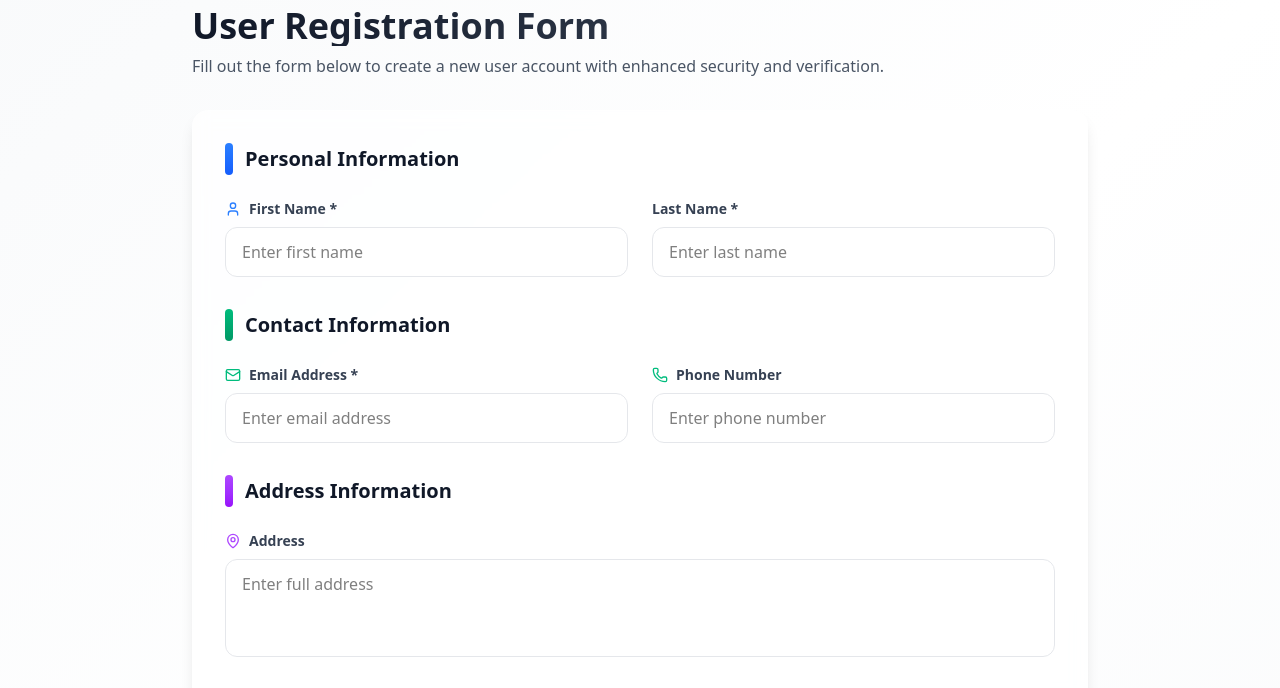
Test: FormView › clears form when cancel is clicked
Type "John" into the field labelled "First Name *". click: (426, 252)
box: [225, 227, 628, 277]
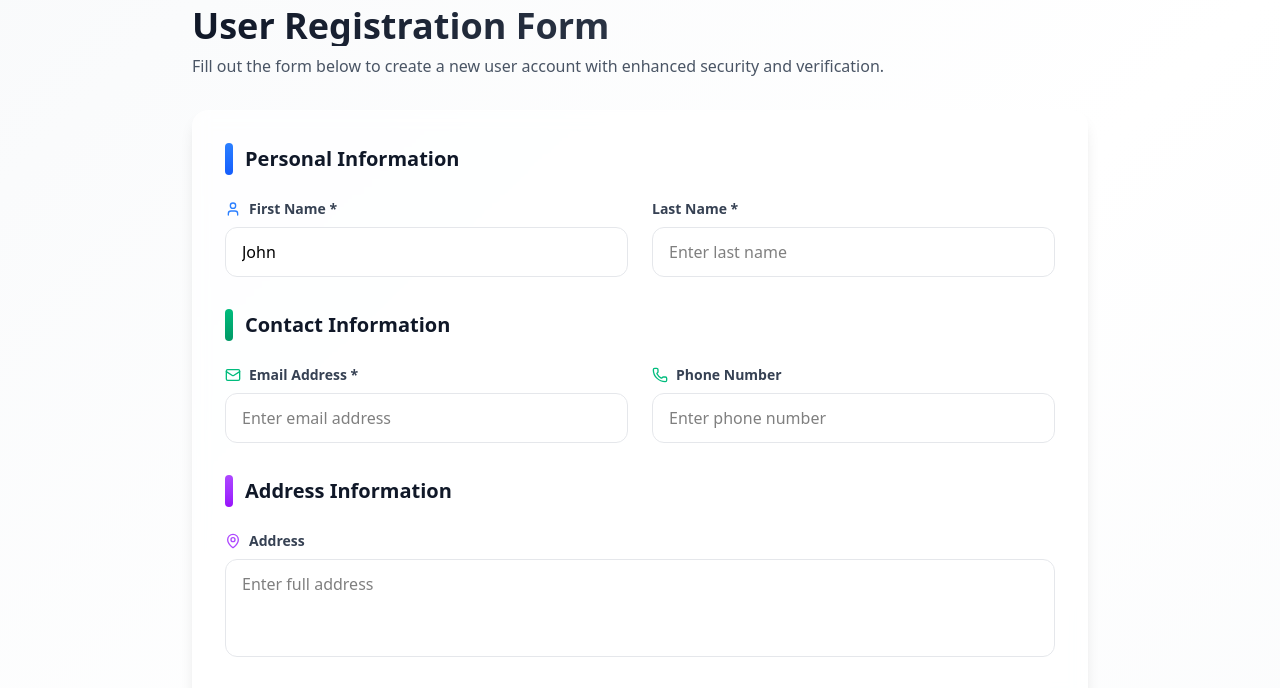
Type "john@example.com" into the field labelled "Email Address *". click: (426, 418)
box: [225, 393, 628, 443]
(page scrolled)
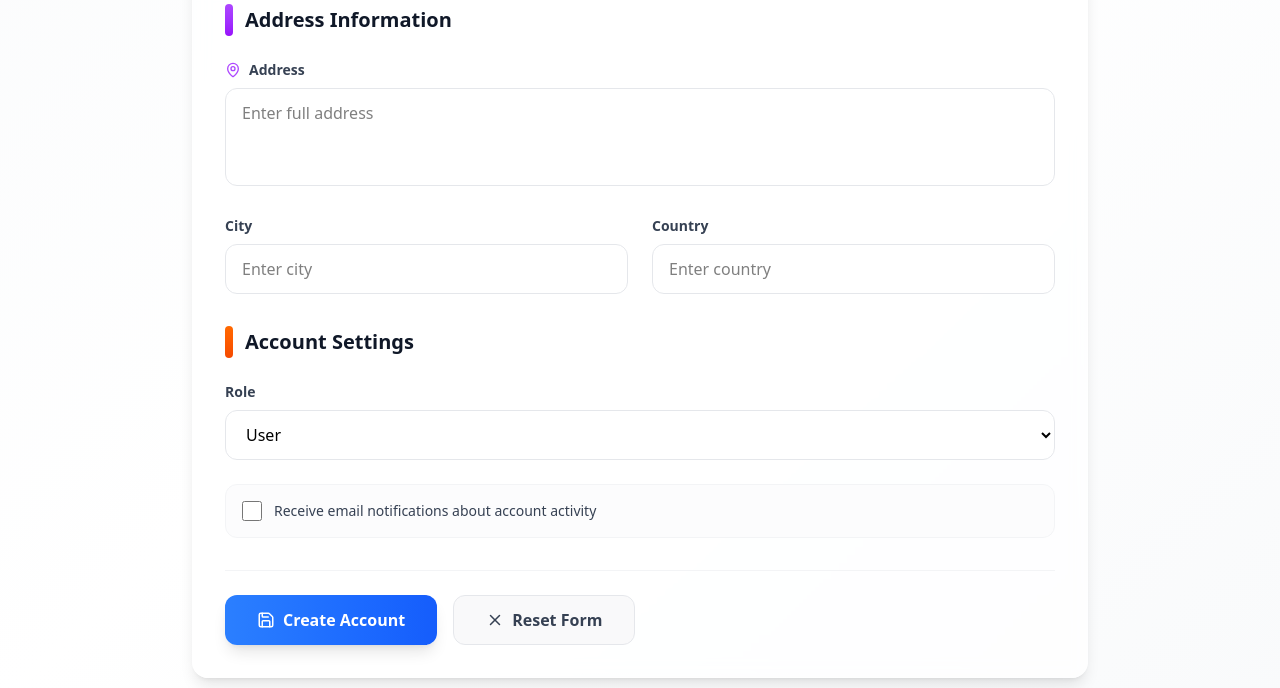
Click the button "Reset Form". click: (544, 620)
box: [453, 595, 635, 645]
(page scrolled)
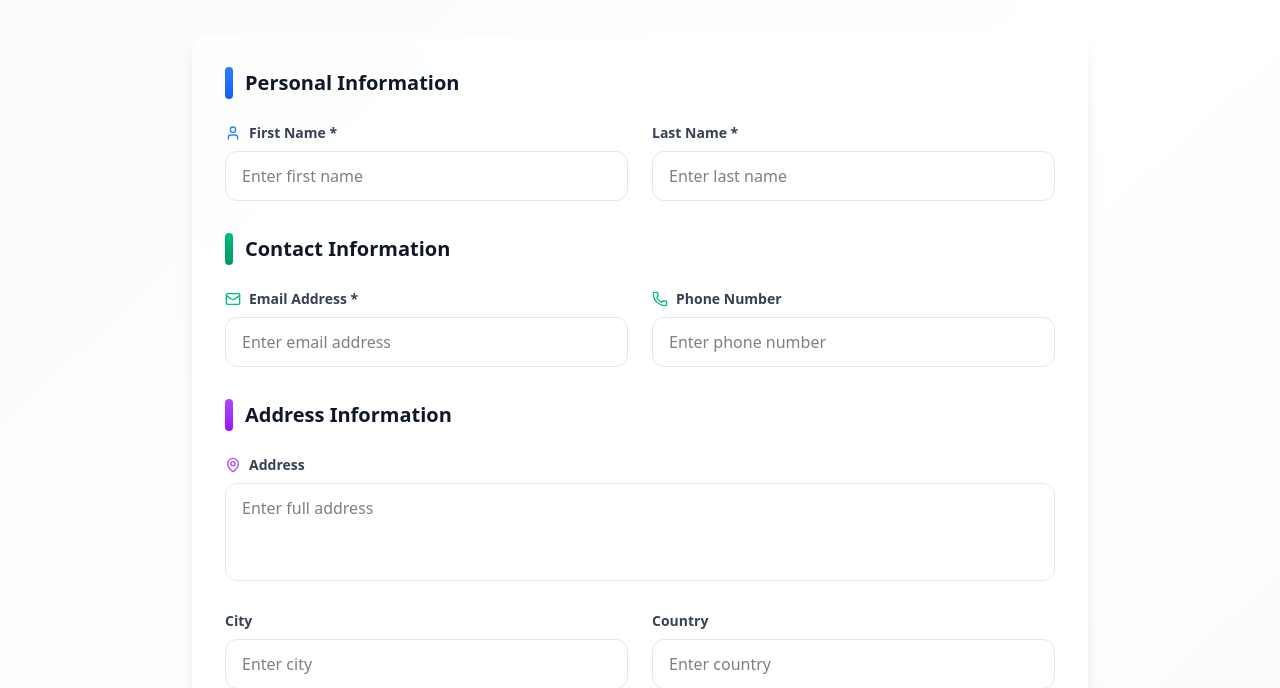
Check: the field labelled "First Name *" is empty, box [225, 151, 628, 201]
Check: the field labelled "Email Address *" is empty, box [225, 317, 628, 367]
